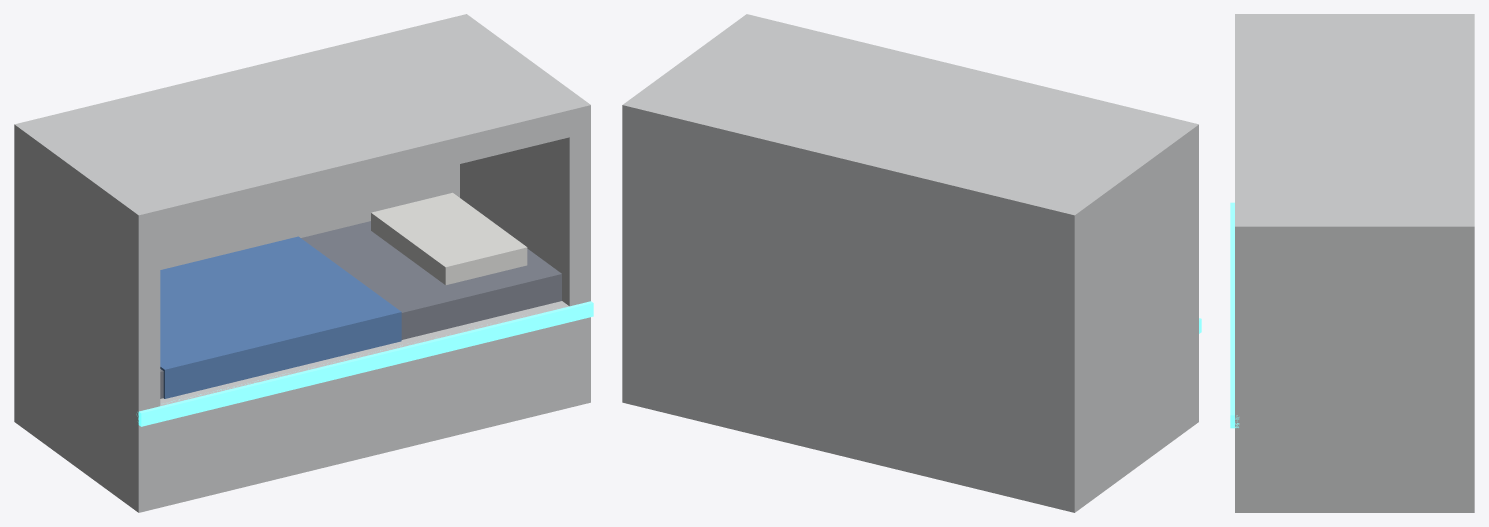
File: SM_Sleep_Pod.glb
3 renders of one model, left to right at view 1: azimuth 30°, elevation 25°; view 2: azimuth 150°, elevation 25°; view 3: azimuth 270°, elevation 25°, orthographic. The views are drawn at different scales.
Visible parts, largest first — view 1: SM_Sleep_Pod; view 2: SM_Sleep_Pod; view 3: SM_Sleep_Pod.
Part boxes in pixels (x1,y1,x2,y2): SM_Sleep_Pod: (14,14,593,512); SM_Sleep_Pod: (622,14,1201,512); SM_Sleep_Pod: (1230,14,1474,512).
Bounding box in the file's own units: 2.1 × 1.32 × 1.02.
